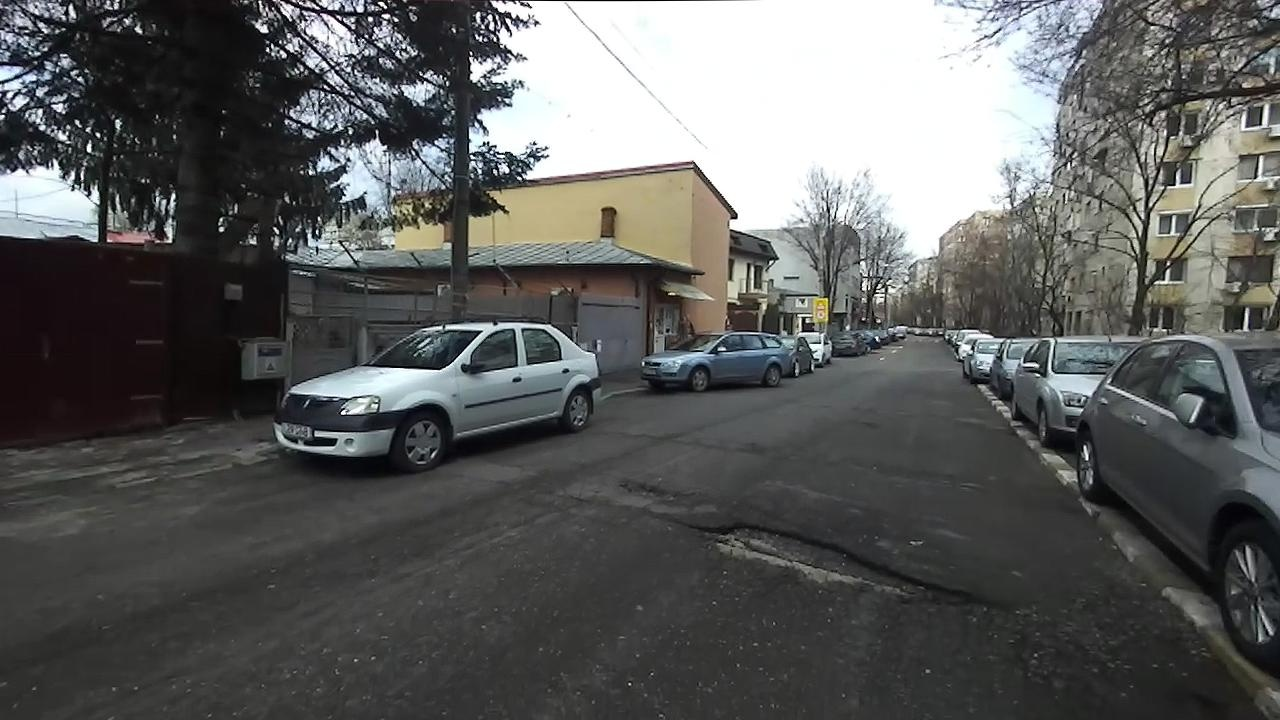pothole: (675, 517, 1007, 622), (609, 473, 691, 504)
